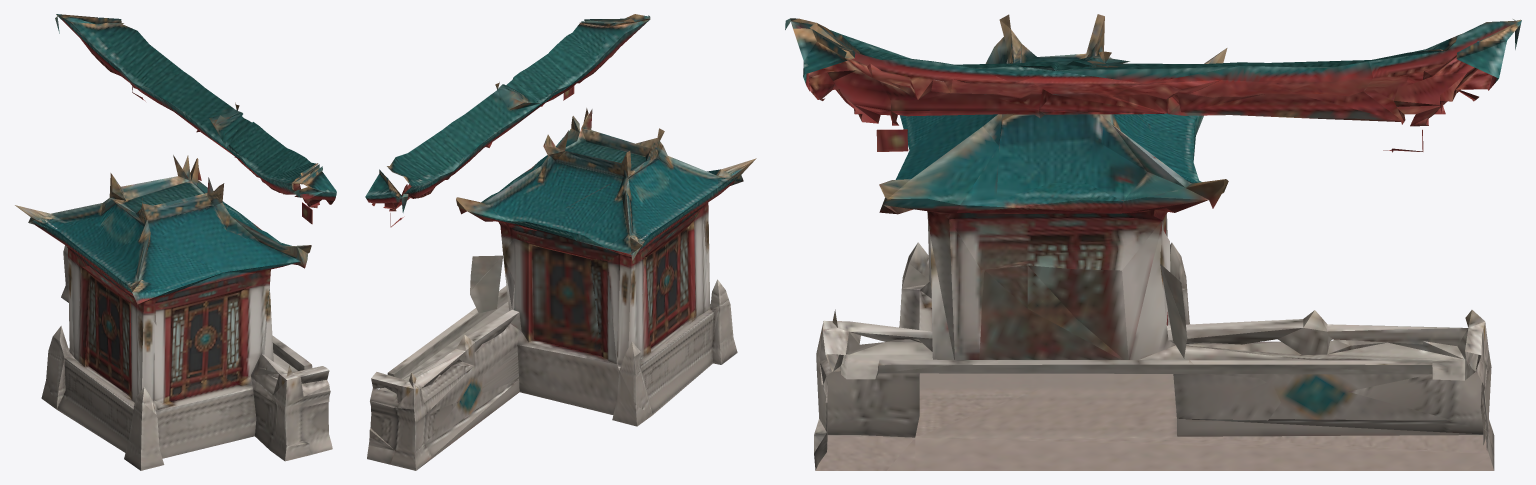
File: annex_left_from_L3.glb
3 views of the same model, side by side, from view 1: azimuth 30°, elevation 25°; view 2: azimuth 150°, elevation 25°; view 3: azimuth 270°, elevation 25° (orthographic). The views are drawn at different scales.
Visible parts, largest first — view 1: Annex_L; view 2: Annex_L; view 3: Annex_L.
Part boxes in pixels (left/top/right/bottom): Annex_L: left=15, top=14, right=336, bottom=470; Annex_L: left=365, top=14, right=756, bottom=470; Annex_L: left=785, top=14, right=1521, bottom=470.
Bounding box in the file's own units: 1.12 × 1.62 × 2.58.
1 material, 1 textured.
